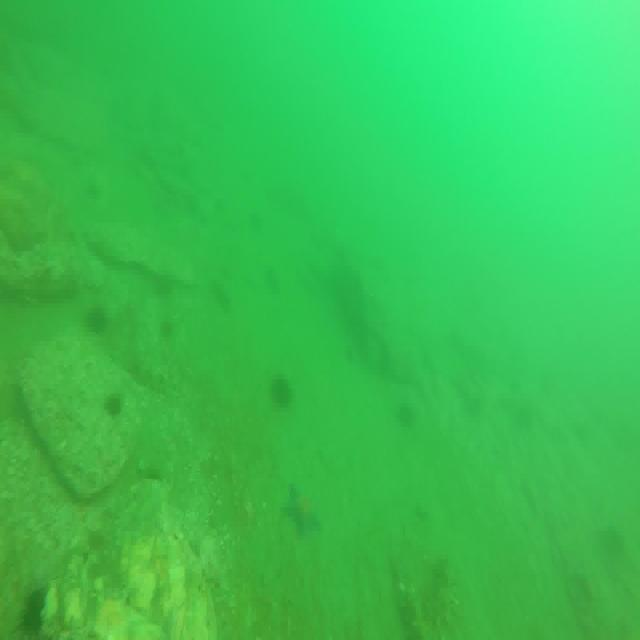echinus: (18, 588, 50, 636), (269, 375, 294, 410), (82, 304, 107, 336), (103, 388, 123, 420), (396, 401, 414, 429), (160, 317, 176, 342)
starfish: (284, 481, 324, 536)
